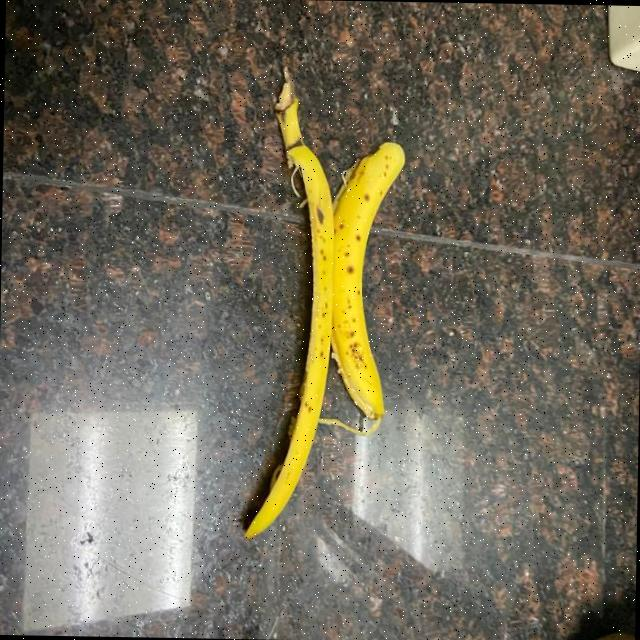banana-peel: (242, 64, 338, 541), (325, 138, 406, 434)
